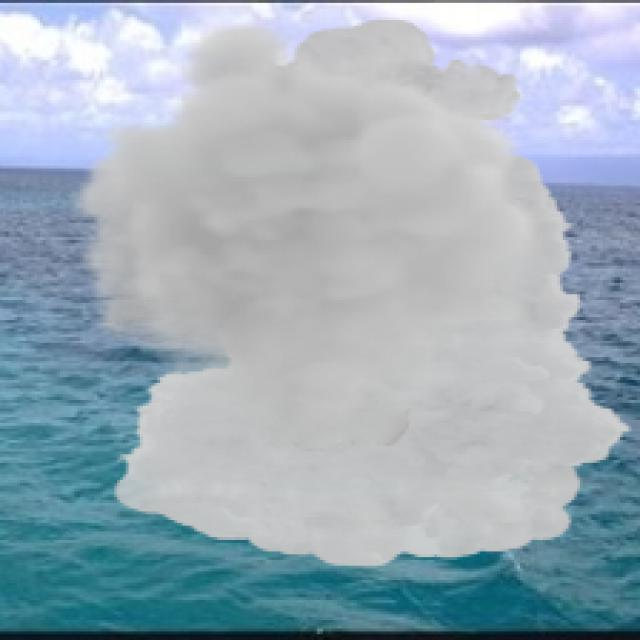Smoke: (68, 17, 634, 569)
